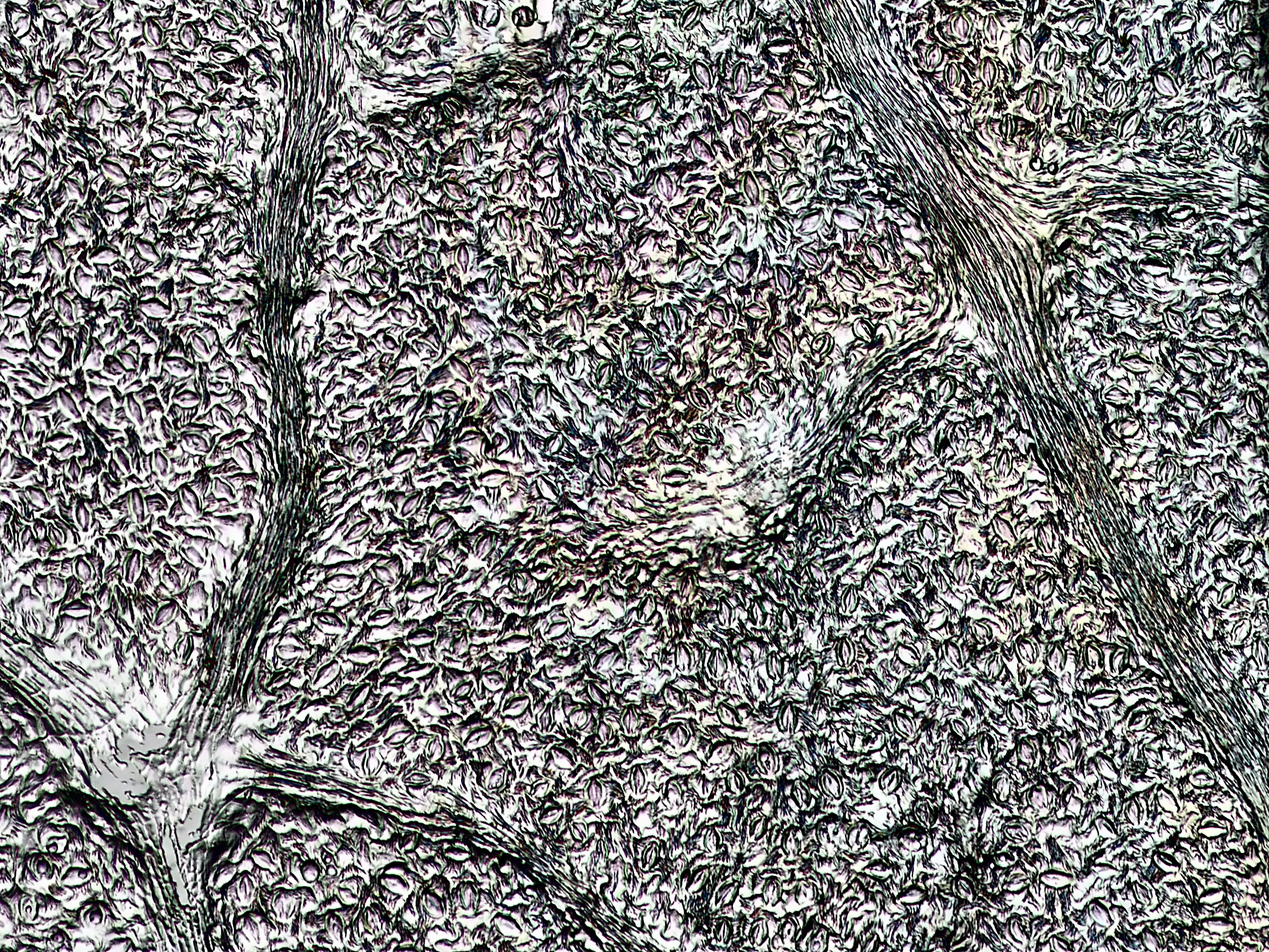stomata: (678, 568, 704, 605), (739, 171, 764, 209), (311, 609, 346, 636), (30, 75, 52, 117), (755, 739, 779, 777), (178, 482, 204, 517), (818, 766, 843, 802), (309, 660, 340, 689), (57, 864, 94, 888), (582, 776, 608, 810), (136, 296, 172, 320), (239, 913, 266, 945), (376, 0, 412, 24), (1068, 101, 1092, 137), (912, 795, 938, 828), (1039, 867, 1076, 890), (1014, 633, 1039, 667), (386, 448, 416, 476), (676, 2, 704, 32), (594, 452, 618, 487), (714, 878, 740, 910), (809, 330, 834, 363), (846, 818, 871, 851), (1155, 783, 1180, 816), (1223, 0, 1247, 34), (123, 547, 145, 584), (1095, 750, 1123, 779), (343, 289, 374, 315), (834, 266, 865, 292), (1199, 914, 1239, 934), (1116, 110, 1140, 143), (465, 723, 493, 751), (653, 428, 682, 455), (638, 838, 661, 872), (1200, 275, 1235, 297), (549, 515, 587, 535), (348, 432, 371, 465), (149, 601, 177, 628), (336, 878, 363, 906), (1001, 816, 1029, 843), (391, 178, 417, 207), (501, 693, 530, 719), (761, 874, 783, 908), (777, 700, 799, 734), (1013, 32, 1035, 66), (141, 16, 165, 47), (89, 242, 120, 266), (17, 892, 41, 923), (589, 650, 620, 674), (878, 764, 902, 795), (129, 486, 148, 525), (854, 432, 891, 452), (832, 206, 864, 229), (688, 422, 720, 445), (865, 492, 888, 524), (781, 825, 802, 860), (1027, 81, 1048, 116), (133, 236, 160, 263), (690, 134, 717, 161), (765, 146, 792, 173), (897, 825, 925, 851), (1205, 513, 1231, 541), (952, 552, 974, 585), (276, 637, 305, 662), (724, 256, 749, 285), (342, 518, 372, 542), (705, 742, 735, 766), (166, 104, 200, 125), (540, 195, 561, 229), (635, 591, 656, 625), (1120, 353, 1154, 374), (55, 294, 78, 325), (659, 778, 682, 809), (74, 499, 96, 531), (624, 285, 656, 307), (629, 764, 651, 796), (1191, 461, 1213, 493), (100, 159, 127, 185), (550, 745, 577, 771), (732, 59, 752, 94), (687, 383, 712, 411), (622, 704, 642, 739), (29, 851, 53, 880), (494, 913, 523, 937), (770, 328, 794, 357), (1156, 456, 1180, 485), (46, 238, 67, 271), (1, 299, 34, 320), (454, 241, 475, 274), (534, 700, 555, 733), (675, 642, 696, 675), (160, 563, 183, 593), (945, 423, 968, 453), (1086, 685, 1116, 708), (1025, 783, 1048, 813), (496, 636, 534, 654), (363, 747, 385, 778), (790, 777, 812, 808), (834, 635, 856, 666), (125, 391, 145, 425), (364, 142, 391, 167), (763, 88, 790, 113), (796, 211, 823, 236), (797, 246, 824, 271), (893, 640, 920, 665), (1004, 871, 1031, 896), (386, 367, 418, 388), (323, 571, 355, 592), (765, 35, 797, 56), (792, 64, 820, 88), (854, 315, 878, 343), (921, 606, 949, 630), (1088, 901, 1112, 929), (164, 355, 193, 378), (450, 355, 473, 384), (867, 240, 890, 269), (943, 642, 966, 671), (179, 21, 201, 51), (57, 388, 79, 418), (478, 468, 511, 488), (1005, 698, 1027, 728), (1122, 794, 1144, 824), (1091, 35, 1111, 68), (1139, 233, 1172, 253), (1213, 413, 1233, 446), (184, 265, 215, 286), (274, 889, 295, 920), (531, 382, 552, 413), (656, 170, 677, 201), (192, 68, 218, 93), (631, 95, 657, 120), (24, 484, 51, 508), (443, 179, 470, 203), (265, 668, 292, 692), (587, 679, 611, 706), (1152, 848, 1179, 872), (84, 95, 103, 129), (354, 178, 377, 206), (173, 632, 193, 664), (425, 732, 445, 764), (102, 192, 131, 214), (419, 210, 441, 239), (1032, 571, 1054, 600), (209, 43, 239, 64), (233, 441, 254, 471), (494, 386, 515, 416), (984, 651, 1005, 681), (1054, 734, 1075, 764), (950, 12, 971, 42), (461, 881, 480, 914), (567, 304, 586, 337), (775, 263, 794, 296), (765, 647, 784, 680), (1202, 305, 1227, 330), (149, 57, 175, 81), (212, 6, 238, 30), (1230, 49, 1256, 73), (211, 403, 234, 430), (184, 430, 211, 453), (501, 330, 528, 353), (535, 473, 558, 500), (367, 606, 394, 629), (347, 684, 370, 711), (953, 875, 976, 902), (989, 579, 1016, 602), (1164, 307, 1187, 334), (1108, 296, 1135, 319), (62, 598, 93, 618), (551, 76, 571, 107), (431, 389, 462, 409), (708, 647, 728, 678), (422, 889, 444, 917), (475, 531, 497, 559), (1160, 113, 1182, 141), (981, 56, 998, 92), (442, 841, 471, 862), (748, 813, 769, 842), (979, 731, 1000, 760), (1047, 645, 1068, 674), (863, 858, 892, 879), (1227, 126, 1248, 155), (1103, 385, 1132, 406), (325, 910, 344, 942), (364, 904, 383, 936), (407, 627, 439, 646), (348, 645, 380, 664), (188, 332, 212, 357), (483, 668, 507, 693), (692, 59, 712, 89), (688, 863, 708, 893), (747, 598, 767, 628), (993, 514, 1016, 540), (719, 701, 742, 727), (892, 712, 915, 738), (72, 555, 94, 582), (426, 16, 453, 38), (730, 110, 752, 137), (813, 303, 840, 325), (660, 469, 693, 487), (725, 767, 747, 794), (817, 510, 839, 537), (806, 562, 828, 589), (971, 619, 993, 646), (496, 213, 517, 241), (815, 128, 836, 156), (531, 561, 559, 582), (670, 719, 691, 747), (989, 772, 1010, 800), (1241, 291, 1262, 319), (1175, 389, 1203, 410), (148, 192, 168, 221), (610, 202, 639, 222), (808, 923, 828, 952), (497, 95, 521, 119), (793, 880, 817, 904), (1086, 642, 1104, 674), (59, 176, 82, 201), (534, 155, 559, 178), (869, 570, 892, 595), (418, 246, 440, 272), (365, 267, 391, 289), (385, 228, 404, 258), (318, 465, 348, 484), (993, 446, 1012, 476), (463, 140, 484, 167), (937, 489, 970, 506), (985, 13, 1002, 46), (16, 158, 44, 178), (152, 167, 180, 187), (742, 300, 770, 320), (736, 391, 756, 419), (1201, 238, 1229, 258), (188, 185, 219, 203), (238, 872, 256, 903), (777, 605, 795, 636), (430, 517, 453, 541), (706, 304, 730, 327), (1164, 506, 1187, 530), (12, 8, 31, 37), (559, 264, 578, 293), (608, 57, 637, 76), (1012, 914, 1031, 943), (1110, 646, 1129, 675), (513, 4, 535, 29), (529, 291, 554, 313), (538, 804, 563, 826), (782, 181, 807, 203), (647, 356, 672, 378), (665, 684, 687, 709), (15, 198, 41, 219), (543, 430, 564, 456), (386, 728, 412, 749), (591, 168, 617, 189), (758, 372, 779, 398), (991, 849, 1017, 870), (1096, 814, 1117, 840), (60, 58, 90, 76), (377, 874, 407, 892), (566, 348, 584, 378), (422, 417, 442, 444), (403, 491, 423, 518), (614, 31, 641, 51), (651, 50, 678, 70), (662, 302, 680, 332), (749, 916, 767, 946), (780, 916, 800, 943), (1035, 523, 1053, 553), (904, 560, 924, 587), (1155, 71, 1175, 98), (1197, 50, 1215, 80), (69, 214, 92, 237), (223, 234, 246, 257), (39, 334, 62, 357), (372, 561, 395, 584), (91, 28, 115, 50), (251, 847, 275, 869), (450, 679, 472, 703), (634, 232, 656, 256), (1253, 637, 1269, 670), (171, 390, 202, 407), (841, 584, 858, 615), (570, 27, 595, 48), (339, 252, 360, 277), (1140, 258, 1169, 276), (42, 3, 68, 23), (511, 125, 531, 151), (495, 169, 514, 196), (508, 569, 527, 596), (705, 826, 724, 853), (335, 405, 367, 421), (596, 258, 613, 288), (485, 266, 502, 296), (833, 468, 863, 485), (635, 387, 658, 409), (619, 561, 641, 584), (865, 625, 888, 647), (197, 213, 221, 234), (467, 601, 485, 629), (1246, 392, 1264, 420), (103, 87, 128, 107), (783, 130, 808, 150), (1143, 927, 1163, 952), (1131, 879, 1151, 904), (1233, 540, 1253, 565), (719, 595, 735, 626), (910, 430, 929, 456), (923, 42, 942, 68), (1168, 203, 1194, 222), (937, 376, 955, 403), (919, 521, 937, 548), (1198, 886, 1225, 904), (1231, 618, 1249, 645), (1179, 351, 1200, 374), (114, 119, 134, 143), (403, 771, 433, 787), (862, 731, 886, 751), (897, 888, 927, 904), (1129, 711, 1153, 731), (1048, 42, 1063, 74), (1000, 114, 1016, 144), (1205, 346, 1229, 366), (1106, 78, 1123, 106), (1170, 14, 1195, 33), (543, 621, 569, 639), (715, 917, 733, 943), (1197, 111, 1215, 137), (398, 832, 420, 853), (1117, 416, 1139, 437), (418, 103, 437, 127), (735, 0, 754, 24), (1217, 583, 1236, 607), (47, 522, 65, 547), (595, 361, 613, 386), (612, 0, 642, 15), (569, 706, 587, 731), (837, 726, 855, 751), (1199, 822, 1227, 838), (611, 128, 637, 145), (909, 681, 931, 701), (1073, 15, 1096, 34), (457, 429, 481, 447), (571, 817, 589, 841), (598, 717, 614, 744), (1047, 934, 1071, 952), (1029, 686, 1053, 704), (1190, 769, 1214, 787), (695, 774, 712, 799), (1172, 144, 1197, 161), (434, 555, 455, 575), (149, 141, 172, 159), (629, 337, 653, 354), (1018, 738, 1035, 762), (946, 62, 961, 89), (690, 215, 711, 234), (1245, 842, 1260, 868), (949, 716, 968, 736), (488, 766, 505, 788), (532, 778, 549, 800), (1142, 386, 1164, 403), (482, 7, 500, 26), (442, 100, 459, 120), (1106, 933, 1123, 952), (1144, 748, 1160, 764)
